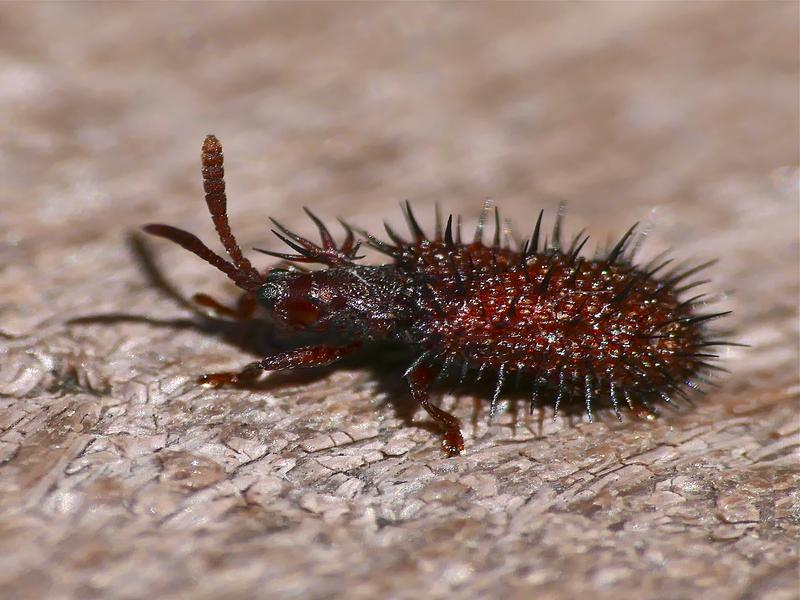Spiny_beetle: (166, 182, 710, 451)
